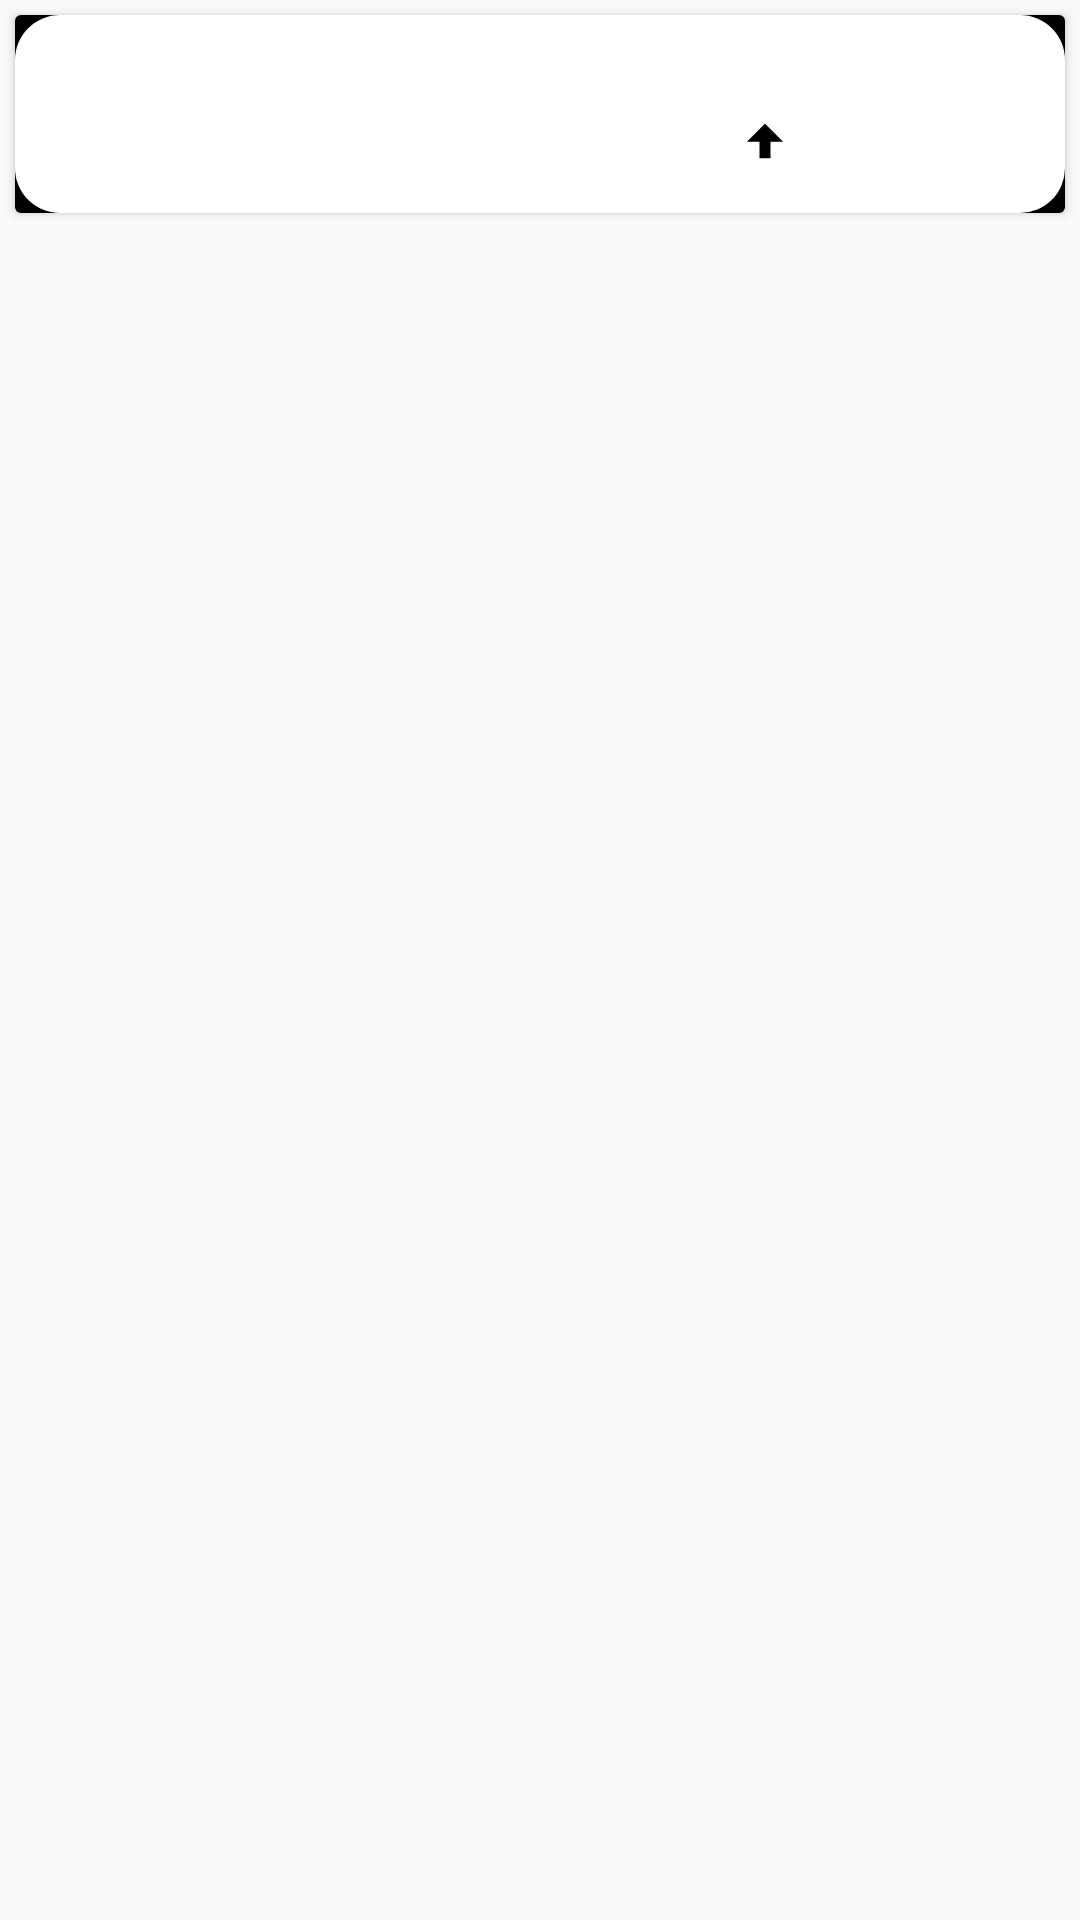

Named icons in this screenshot (1080px x 1920px) and their centers, [x,y]:
up arrow: [765,141]
